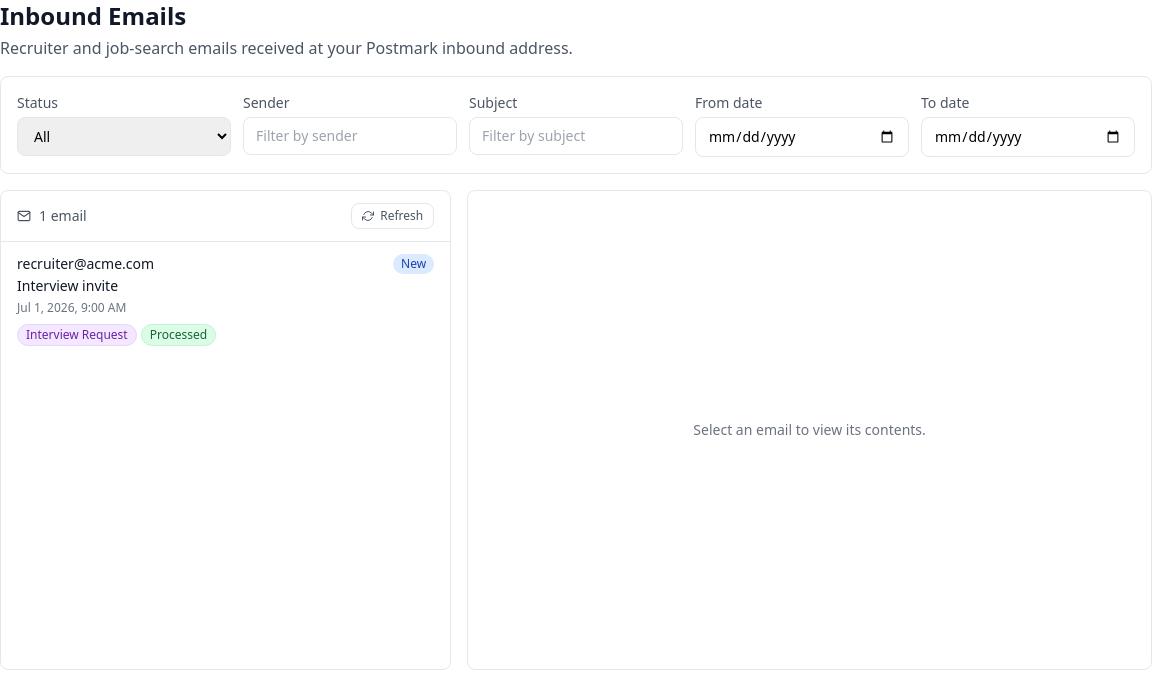
InboundEmailsPage › loads audit log from secondary action
Expected: the text "Interview invite" is shown, [17,276,118,295]
Click the button "recruiter@acme.com" at (86, 264), box [1,242,450,358]
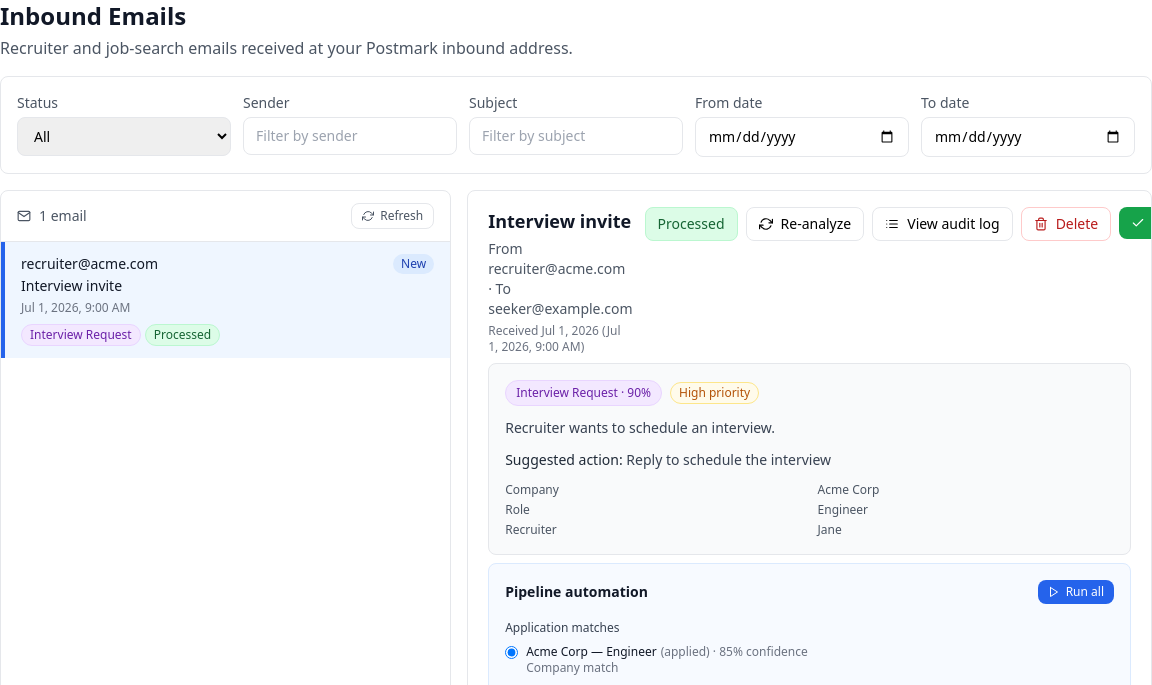
Click the button "View audit log" at (942, 224), box [872,207,1013,241]
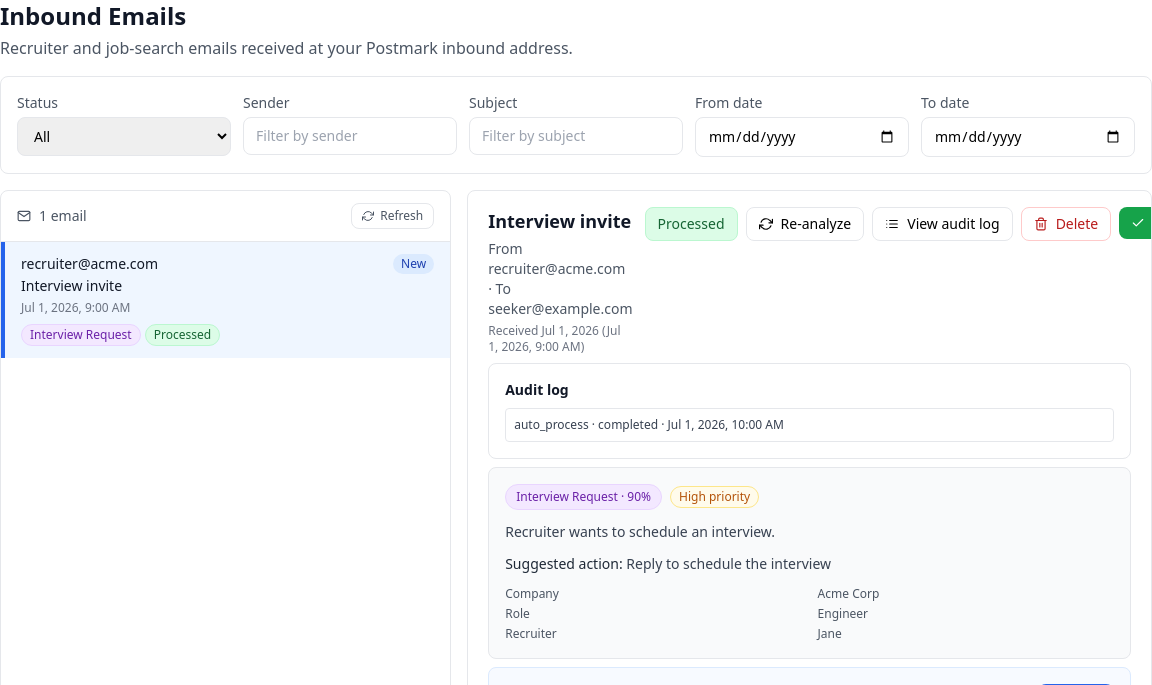
Result: the text "auto_process" is shown at [514,416,589,433]
